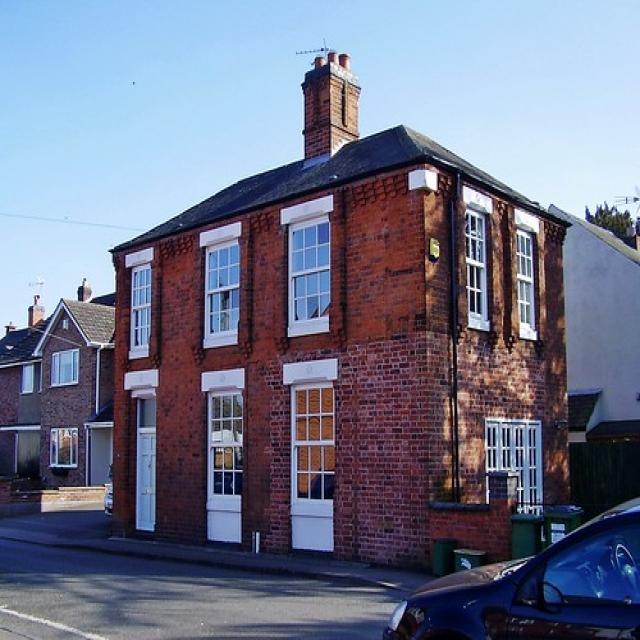building: (105, 46, 579, 580)
